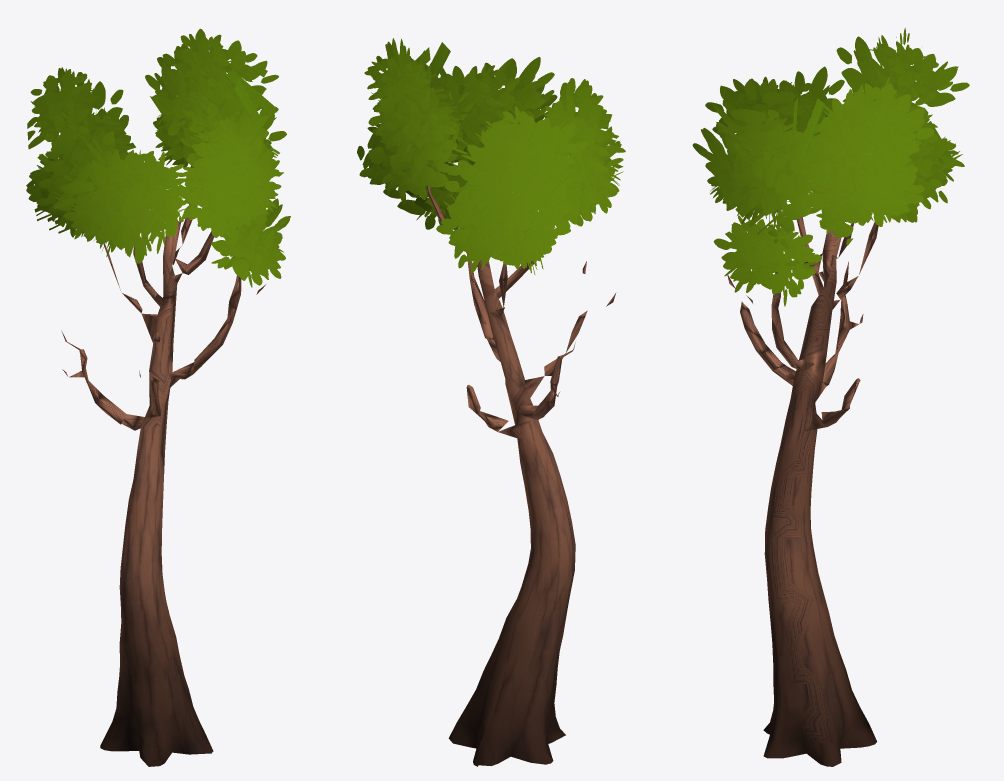
Rendered from tree3.glb.
3 renders of one model, left to right at view 1: azimuth 30°, elevation 25°; view 2: azimuth 150°, elevation 25°; view 3: azimuth 270°, elevation 25°, orthographic. The views are drawn at different scales.
Parts seen in each view (by area): view 1: CommonTree_4; view 2: CommonTree_4; view 3: CommonTree_4.
Boxes of the visible parts, bbox=[...] form: CommonTree_4: bbox=[26, 28, 290, 766]; CommonTree_4: bbox=[357, 38, 625, 766]; CommonTree_4: bbox=[692, 28, 969, 766].
Size of the model in its own units: 3.83 by 9.44 by 3.76.
2 materials, 2 textured.
